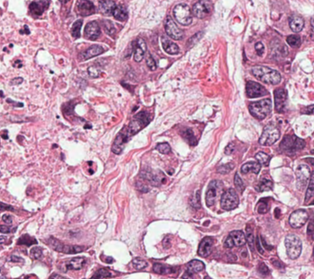nucleus: (111, 111, 150, 153), (46, 237, 84, 253), (251, 65, 280, 84), (249, 98, 270, 119), (139, 169, 165, 185), (205, 180, 221, 206), (259, 125, 279, 145), (220, 188, 238, 209), (223, 230, 245, 247), (246, 81, 267, 97), (82, 45, 104, 59), (198, 236, 213, 256), (161, 37, 178, 54), (274, 88, 286, 112), (134, 38, 146, 61), (187, 259, 204, 274), (153, 263, 175, 274), (181, 128, 195, 145), (187, 32, 202, 47), (66, 257, 84, 269), (257, 177, 272, 191), (241, 162, 260, 173), (17, 234, 36, 245), (246, 225, 254, 249), (255, 152, 269, 165), (136, 178, 149, 192), (190, 190, 200, 208), (256, 198, 268, 213), (132, 257, 147, 269), (92, 268, 111, 277), (146, 53, 156, 70), (217, 163, 233, 173), (87, 65, 100, 77), (156, 142, 170, 153), (234, 174, 243, 191), (261, 236, 271, 249), (255, 237, 263, 253), (30, 247, 41, 258), (258, 263, 269, 274), (0, 225, 15, 233), (225, 142, 234, 154), (271, 259, 283, 268), (255, 42, 263, 55), (10, 255, 23, 262), (1, 202, 13, 209), (2, 214, 11, 223), (182, 270, 192, 277), (50, 274, 64, 278), (11, 78, 22, 83), (102, 257, 113, 262), (274, 208, 279, 217), (164, 236, 168, 242), (164, 244, 167, 246)
